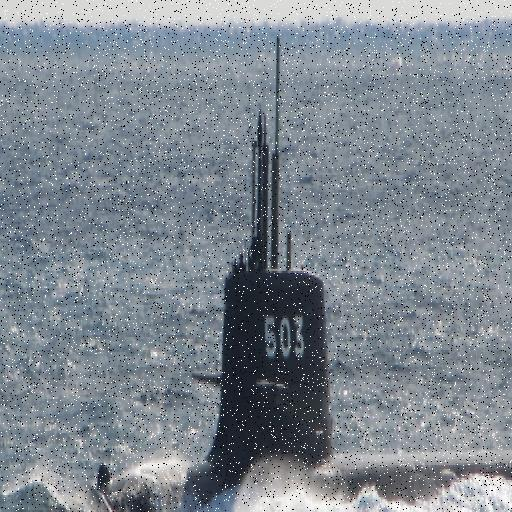submarine: (99, 33, 512, 496)
